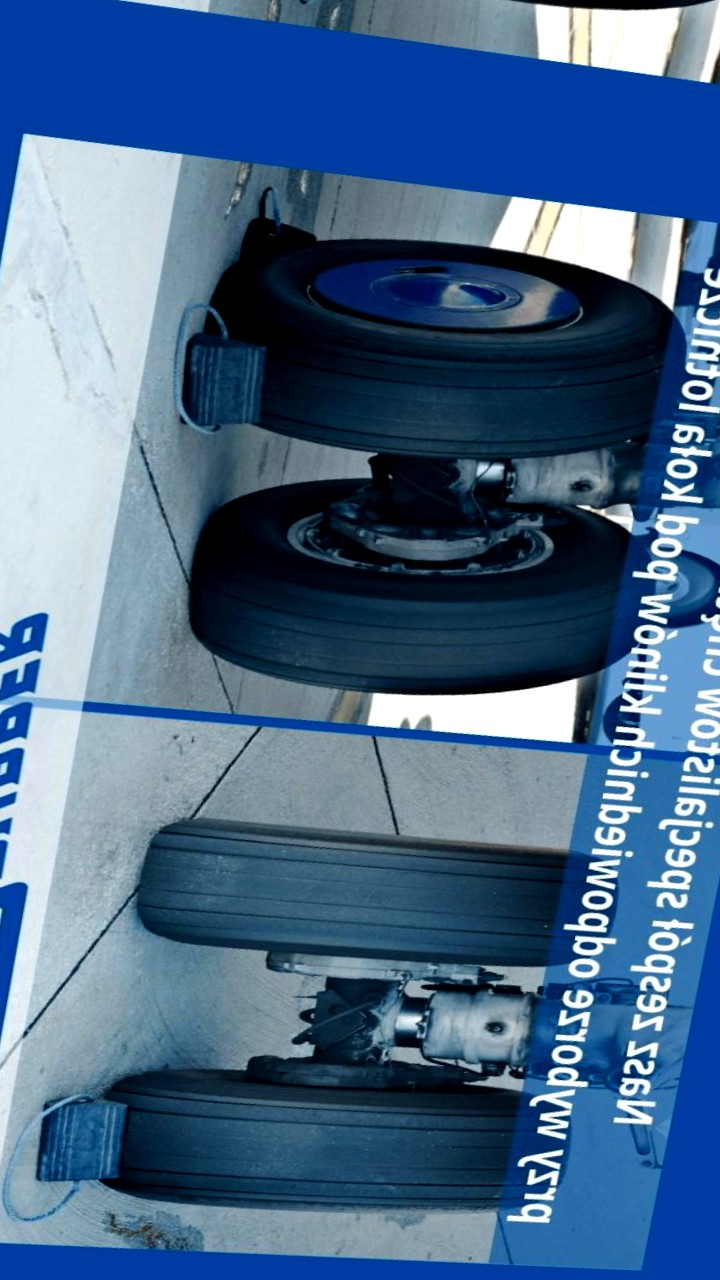chock: (19, 1078, 144, 1202), (166, 321, 281, 442), (235, 203, 323, 273)
wheel: (184, 184, 690, 523), (168, 426, 654, 761), (78, 1002, 582, 1280), (125, 761, 625, 1036), (274, 0, 720, 58), (626, 533, 720, 644)
